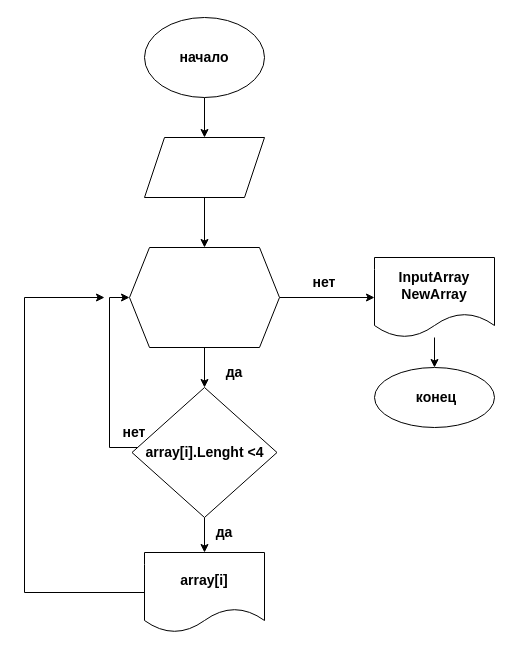
This 512x650 diagram has some shape labels left out. Each missing label, with the box of its shape:
i = 0; array.Lenght; 1: (128, 246, 280, 348)
ввод массива: (144, 136, 264, 198)
